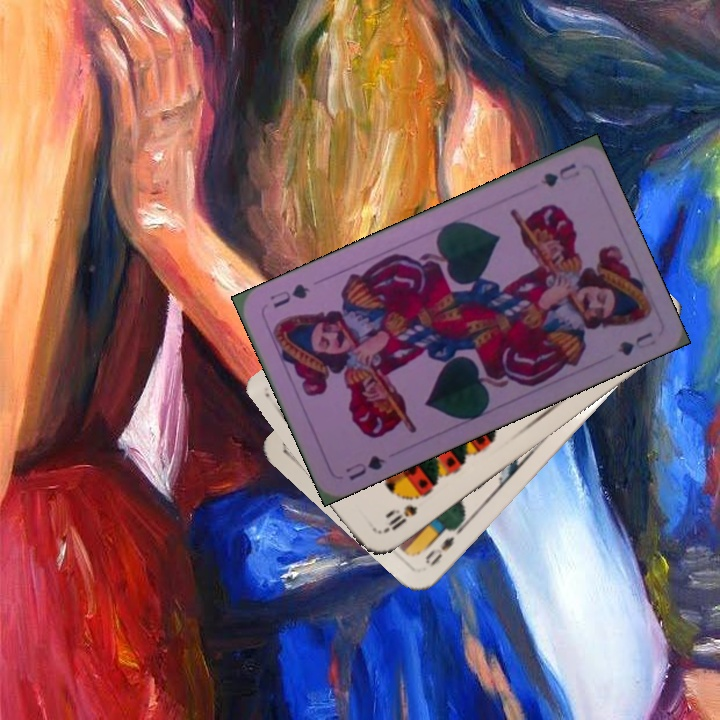EO: (421, 523, 464, 569)
GU: (341, 451, 388, 483), (535, 159, 583, 190)
S10: (376, 500, 421, 536)
